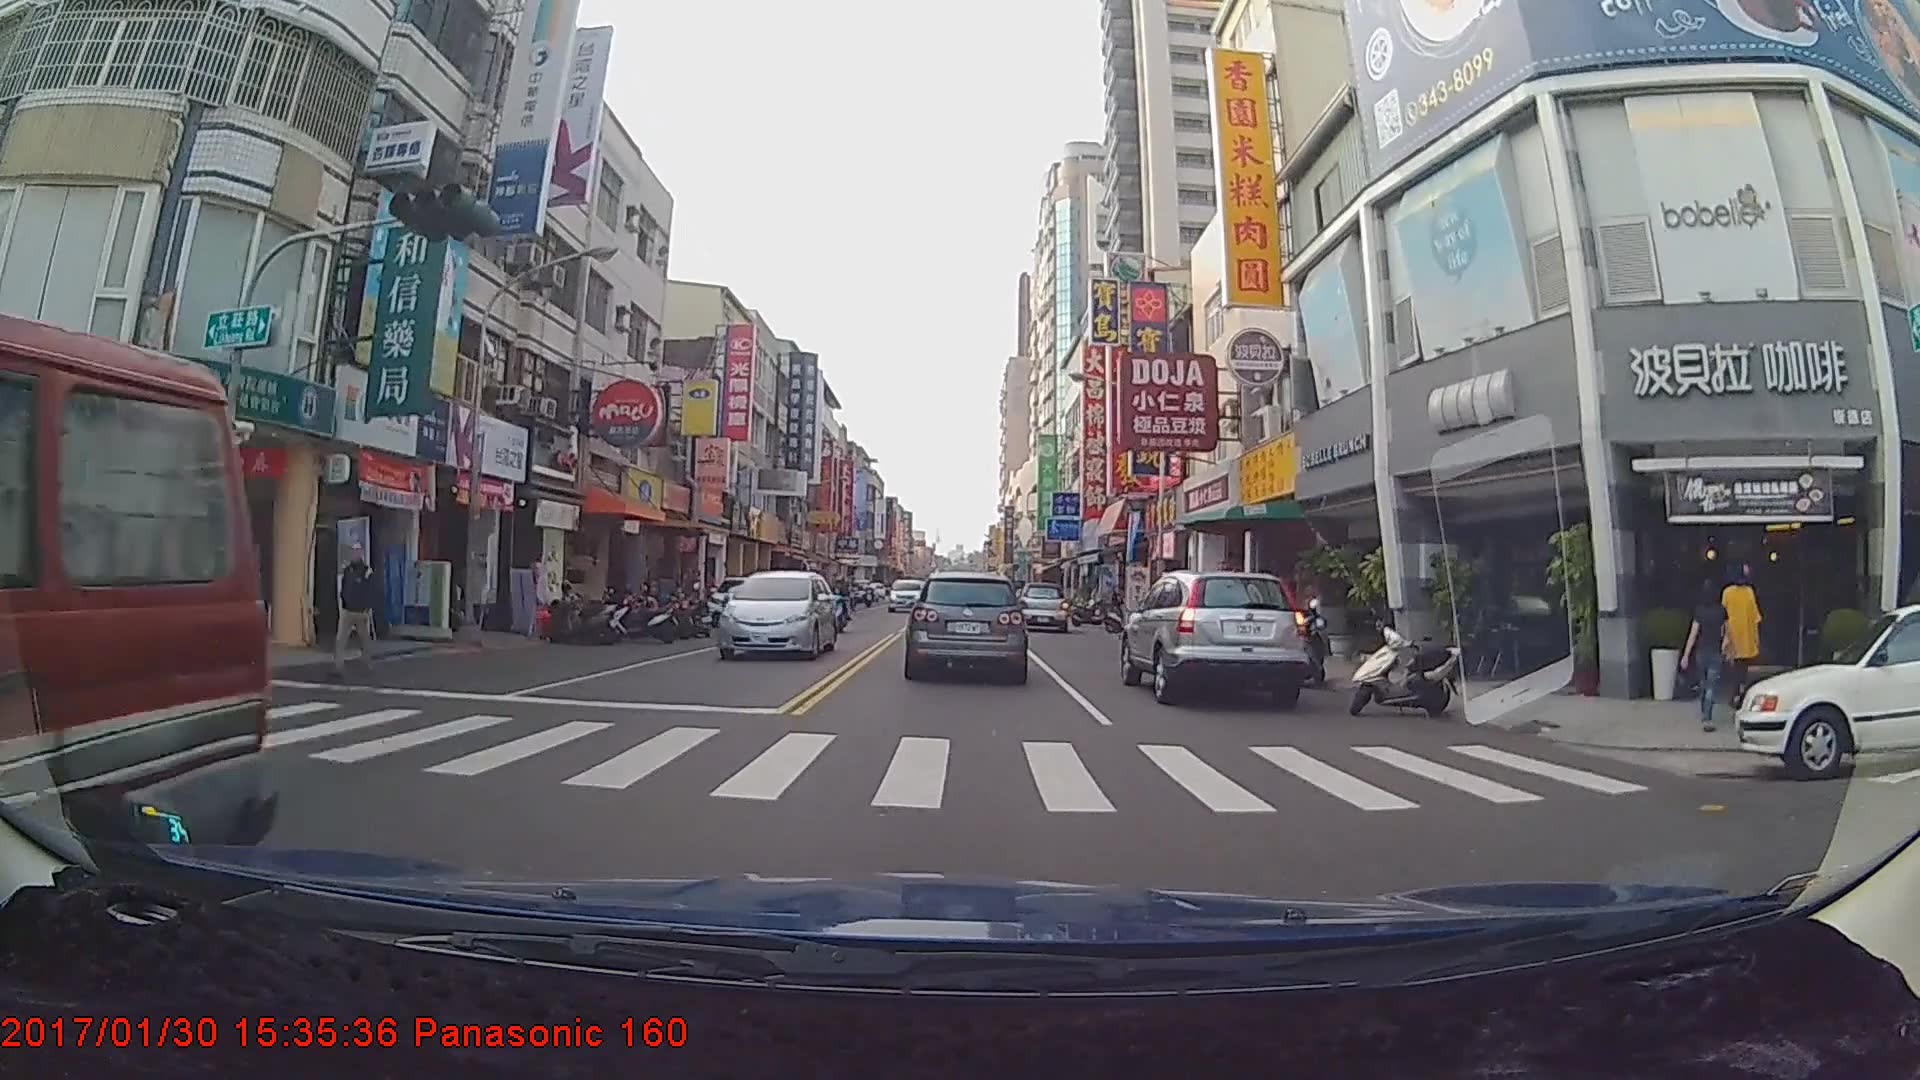pedestrian: (1683, 577, 1736, 735), (328, 538, 379, 673), (1718, 567, 1766, 707)
vehicle: (0, 294, 270, 1053), (1732, 601, 1920, 781), (1118, 567, 1308, 710), (908, 570, 1025, 679), (716, 568, 841, 660), (704, 574, 765, 624), (1014, 581, 1067, 631), (886, 578, 926, 614)
